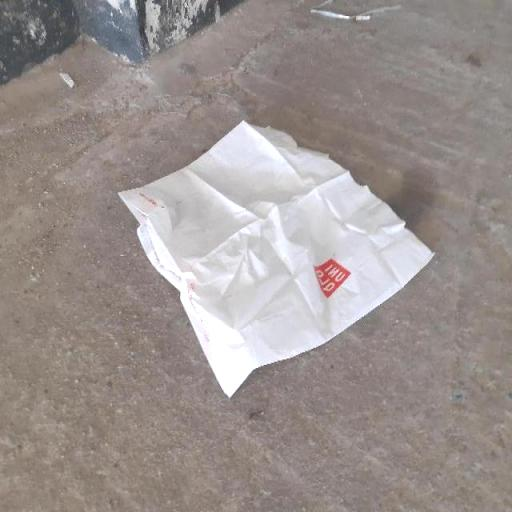polythene: (120, 122, 433, 396)
